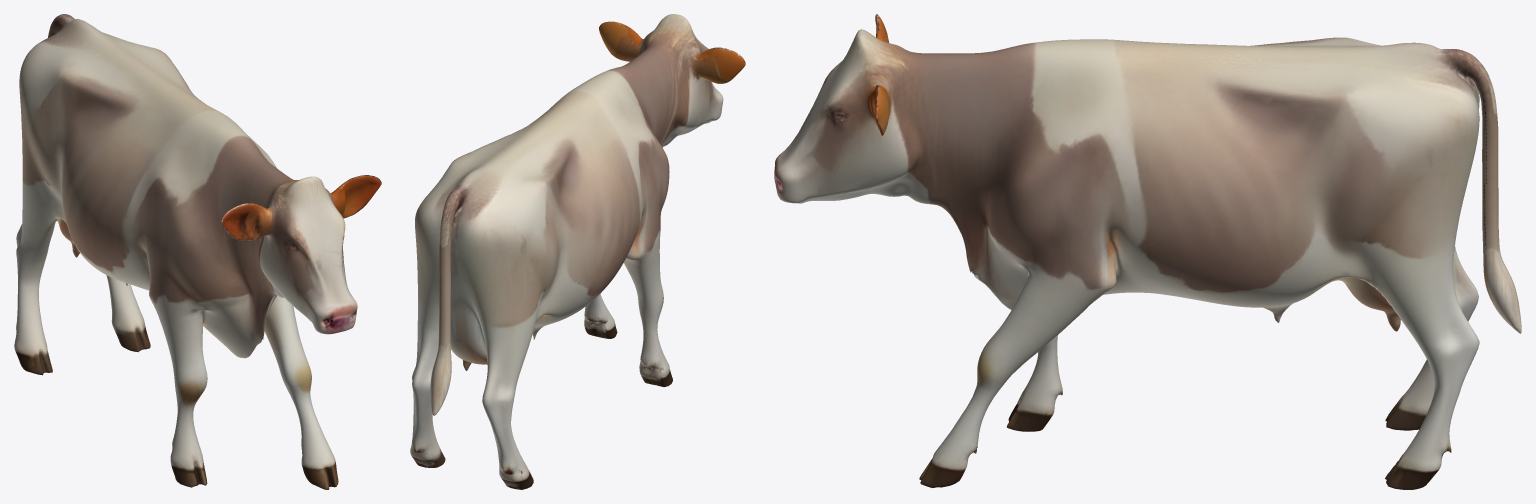
Rendered from cow_walking.glb.
3 renders of one model, left to right at view 1: azimuth 30°, elevation 25°; view 2: azimuth 150°, elevation 25°; view 3: azimuth 270°, elevation 25°, orthographic. The views are drawn at different scales.
Parts seen in each view (by area): view 1: model; view 2: model; view 3: model.
Boxes of the visible parts, bbox=[...] form: model: bbox=[14, 14, 381, 489]; model: bbox=[410, 14, 745, 489]; model: bbox=[774, 14, 1521, 489].
Bounding box in the file's own units: 0.5848 × 1.18 × 1.9.
1 material, 1 textured.
